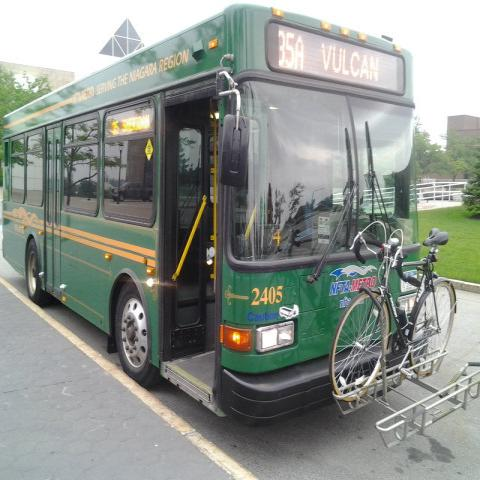bus: (1, 0, 421, 425)
